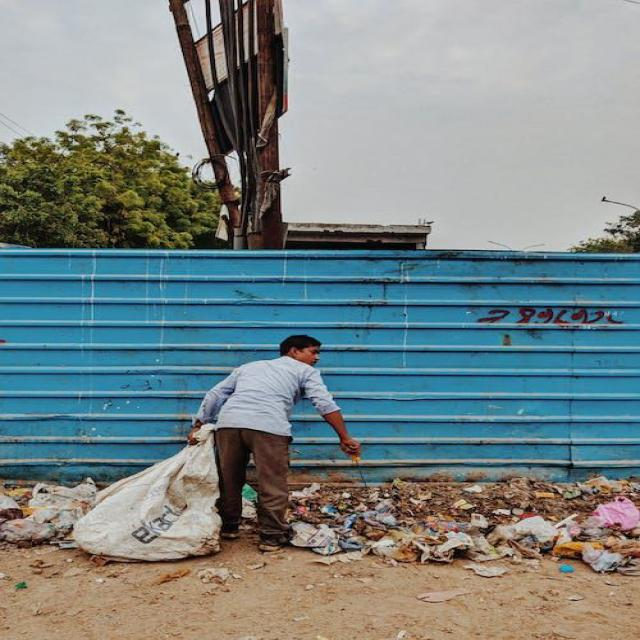trash: (375, 469, 640, 586), (75, 442, 258, 552)
